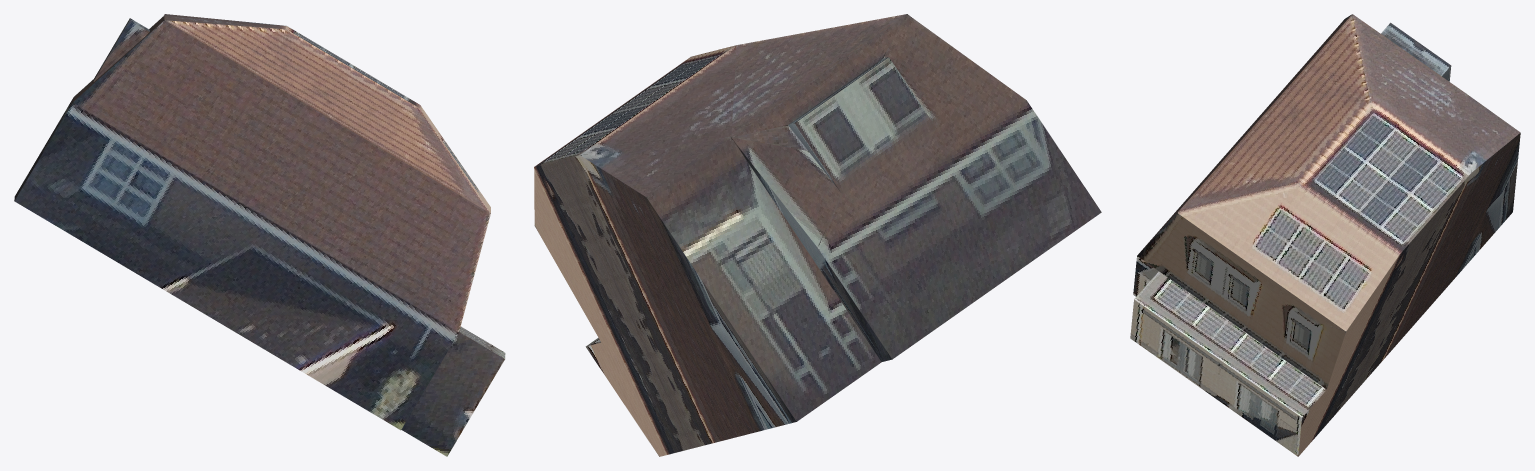
3 renders of one model, left to right at view 1: azimuth 30°, elevation 25°; view 2: azimuth 150°, elevation 25°; view 3: azimuth 270°, elevation 25°, orthographic. The views are drawn at different scales.
Visible parts, largest first — view 1: BAG_0599100100006686 (×3); view 2: BAG_0599100100006686 (×4); view 3: BAG_0599100100006686 (×3).
Boxes of the visible parts, bbox=[...] form: BAG_0599100100006686 (×3): bbox=[14, 14, 505, 456]; BAG_0599100100006686 (×4): bbox=[534, 14, 1101, 456]; BAG_0599100100006686 (×3): bbox=[1130, 14, 1520, 456].
Size of the model in its own units: 15.47 by 14.3 by 14.39.
4 materials, 4 textured.
